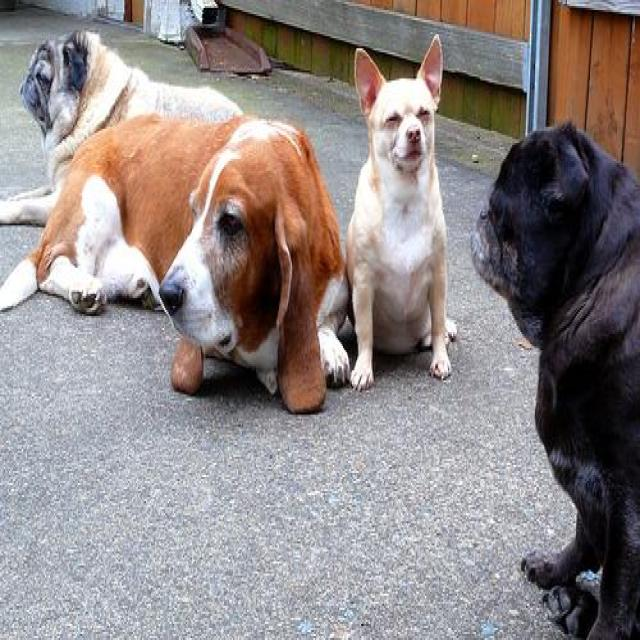basset: (0, 114, 352, 418), (343, 26, 458, 391)
